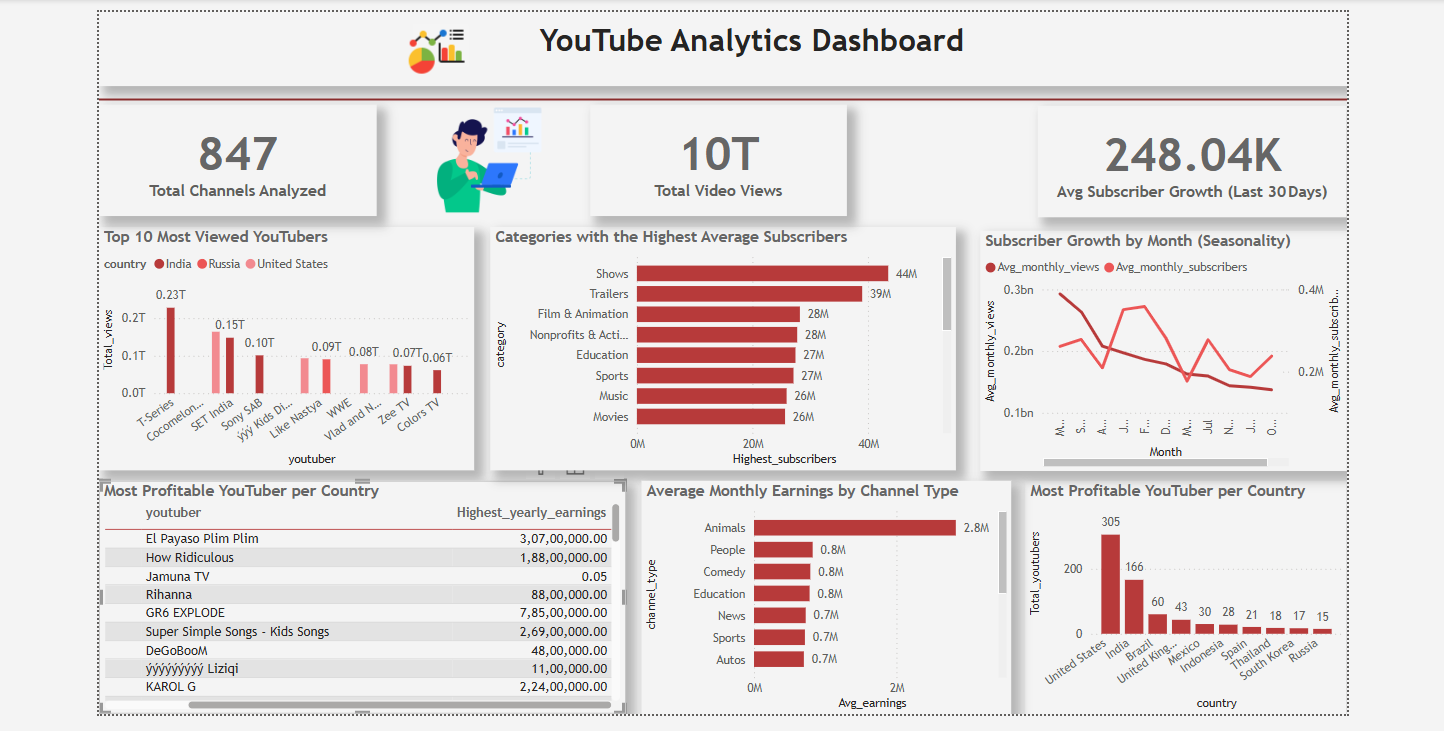

The page's visual inventory and layout, read from the dashboard file:
{"tool":"powerbi","page":{"name":"Page 1","canvas":[1280,720],"ordinal":0},"visuals":[{"type":"clusteredColumnChart","title":"Top 10 Most Viewed YouTubers","fields":{"Category":["top_10_most_viewd.youtuber"],"Series":["top_10_most_viewd.country"],"Y":["top_10_most_viewd.video_views"]},"box":[0,221.1,384.5,249.3],"z":0},{"type":"tableEx","title":"Most Profitable YouTuber per Country","fields":{"Values":["most_profitable_ytber.country","most_profitable_ytber.youtuber","most_profitable_ytber.highest_yearly_earnings"]},"box":[0,480.8,539.7,239.7],"z":1000},{"type":"barChart","title":" Categories with the Highest Average Subscribers","fields":{"Category":["highest_cat_sub.category"],"Y":["highest_cat_sub.highest_sub"]},"box":[401.4,221.1,477.5,249.3],"z":2000},{"type":"columnChart","title":"Most Profitable YouTuber per Country","fields":{"Category":["most_yt_by_country.country"],"Y":["most_yt_by_country.most_youtubers"]},"box":[950,480.8,329.5,239.7],"z":3000},{"type":"lineChart","title":"Subscriber Growth by Month (Seasonality)","fields":{"Category":["sub_growth_month.created_month"],"Y":["sub_growth_month.avg_monthly_views"],"Y2":["sub_growth_month.avg_monthly_sub_growth"]},"box":[904.2,223.9,376.1,246.5],"z":4000},{"type":"clusteredBarChart","title":" Average Monthly Earnings by Channel Type","fields":{"Category":["channel_avg.channel_type"],"Y":["channel_avg.avg_earnings"]},"box":[556.4,480.8,379.5,239.7],"z":5000},{"type":"card","fields":{"Values":["total_youtubers.COUNT(*)"]},"box":[0,94.4,284.5,114.1],"z":5001},{"type":"card","fields":{"Values":["total_video_views.SUM(video_views)"]},"box":[504.2,94.4,263.4,114.1],"z":5002},{"type":"card","fields":{"Values":["Sum(avg_sub_growth.ROUND(AVG(subscribers_for_last_30_days),2))"]},"box":[963.4,95.8,316.9,114.1],"z":5003},{"type":"textbox","box":[0,0,1280.8,75.6],"z":5004},{"type":"shape","box":[0,70.5,1280.8,38.5],"z":5005},{"type":"image","box":[230.8,0,235.9,75.6],"z":5007},{"type":"image","box":[284.6,89.7,230.8,124.4],"z":5008}]}

Visuals, with their boxes on the page's 1280x720 design canvas (x1, y1, x2, y2). These are canvas units, not pixel positions in the 1444x731 screenshot, which may show the page scaled, cropped or inside an application window:
"Top 10 Most Viewed YouTubers" clusteredColumnChart: box=[0, 221, 384, 470]
"Most Profitable YouTuber per Country" tableEx: box=[0, 481, 540, 720]
" Categories with the Highest Average Subscribers" barChart: box=[401, 221, 879, 470]
"Most Profitable YouTuber per Country" columnChart: box=[950, 481, 1280, 720]
"Subscriber Growth by Month (Seasonality)" lineChart: box=[904, 224, 1280, 470]
" Average Monthly Earnings by Channel Type" clusteredBarChart: box=[556, 481, 936, 720]
card - total_youtubers.COUNT(*): box=[0, 94, 284, 208]
card - total_video_views.SUM(video_views): box=[504, 94, 768, 208]
card - Sum(avg_sub_growth.ROUND(AVG(subscribers_for_last_30_days),2)): box=[963, 96, 1280, 210]
textbox: box=[0, 0, 1281, 76]
shape: box=[0, 70, 1281, 109]
image: box=[231, 0, 467, 76]
image: box=[285, 90, 515, 214]
